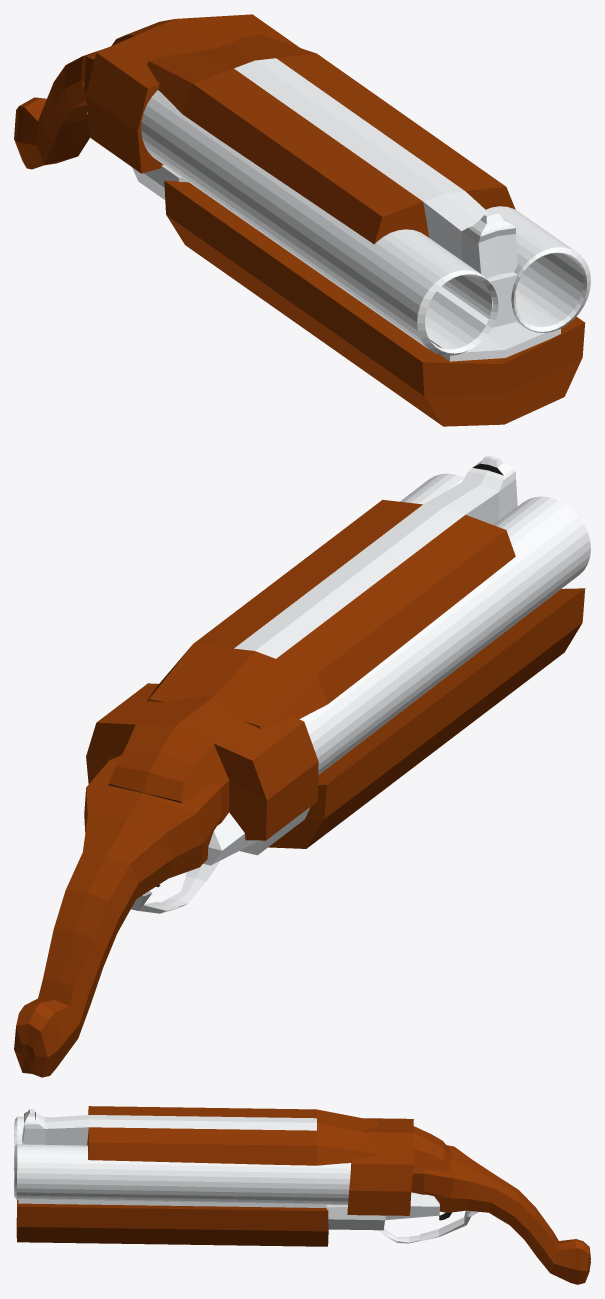
Rendered from shotgun.fbx.
3 renders of one model, top to bottom at view 1: azimuth 30°, elevation 25°; view 2: azimuth 150°, elevation 25°; view 3: azimuth 270°, elevation 25°, orthographic. The views are drawn at different scales.
Parts seen in each view (by area): view 1: Cube; view 2: Cube; view 3: Cube.
Boxes of the visible parts, box(x1,y1,x2,y2) form: Cube: box(14, 14, 590, 426); Cube: box(14, 455, 590, 1077); Cube: box(14, 1106, 590, 1284).
Bounding box in the file's own units: 15.71 × 23.54 × 72.05.
